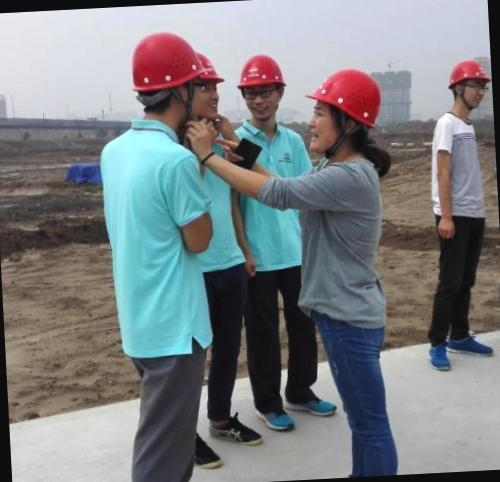helmet: (124, 29, 217, 93), (305, 65, 382, 136), (235, 50, 288, 94), (440, 59, 492, 89)
no_vest: (96, 114, 224, 366), (314, 154, 392, 339), (234, 111, 318, 272), (420, 109, 488, 247)
person: (86, 23, 248, 482), (220, 29, 320, 482), (303, 65, 399, 478), (415, 54, 500, 381)
